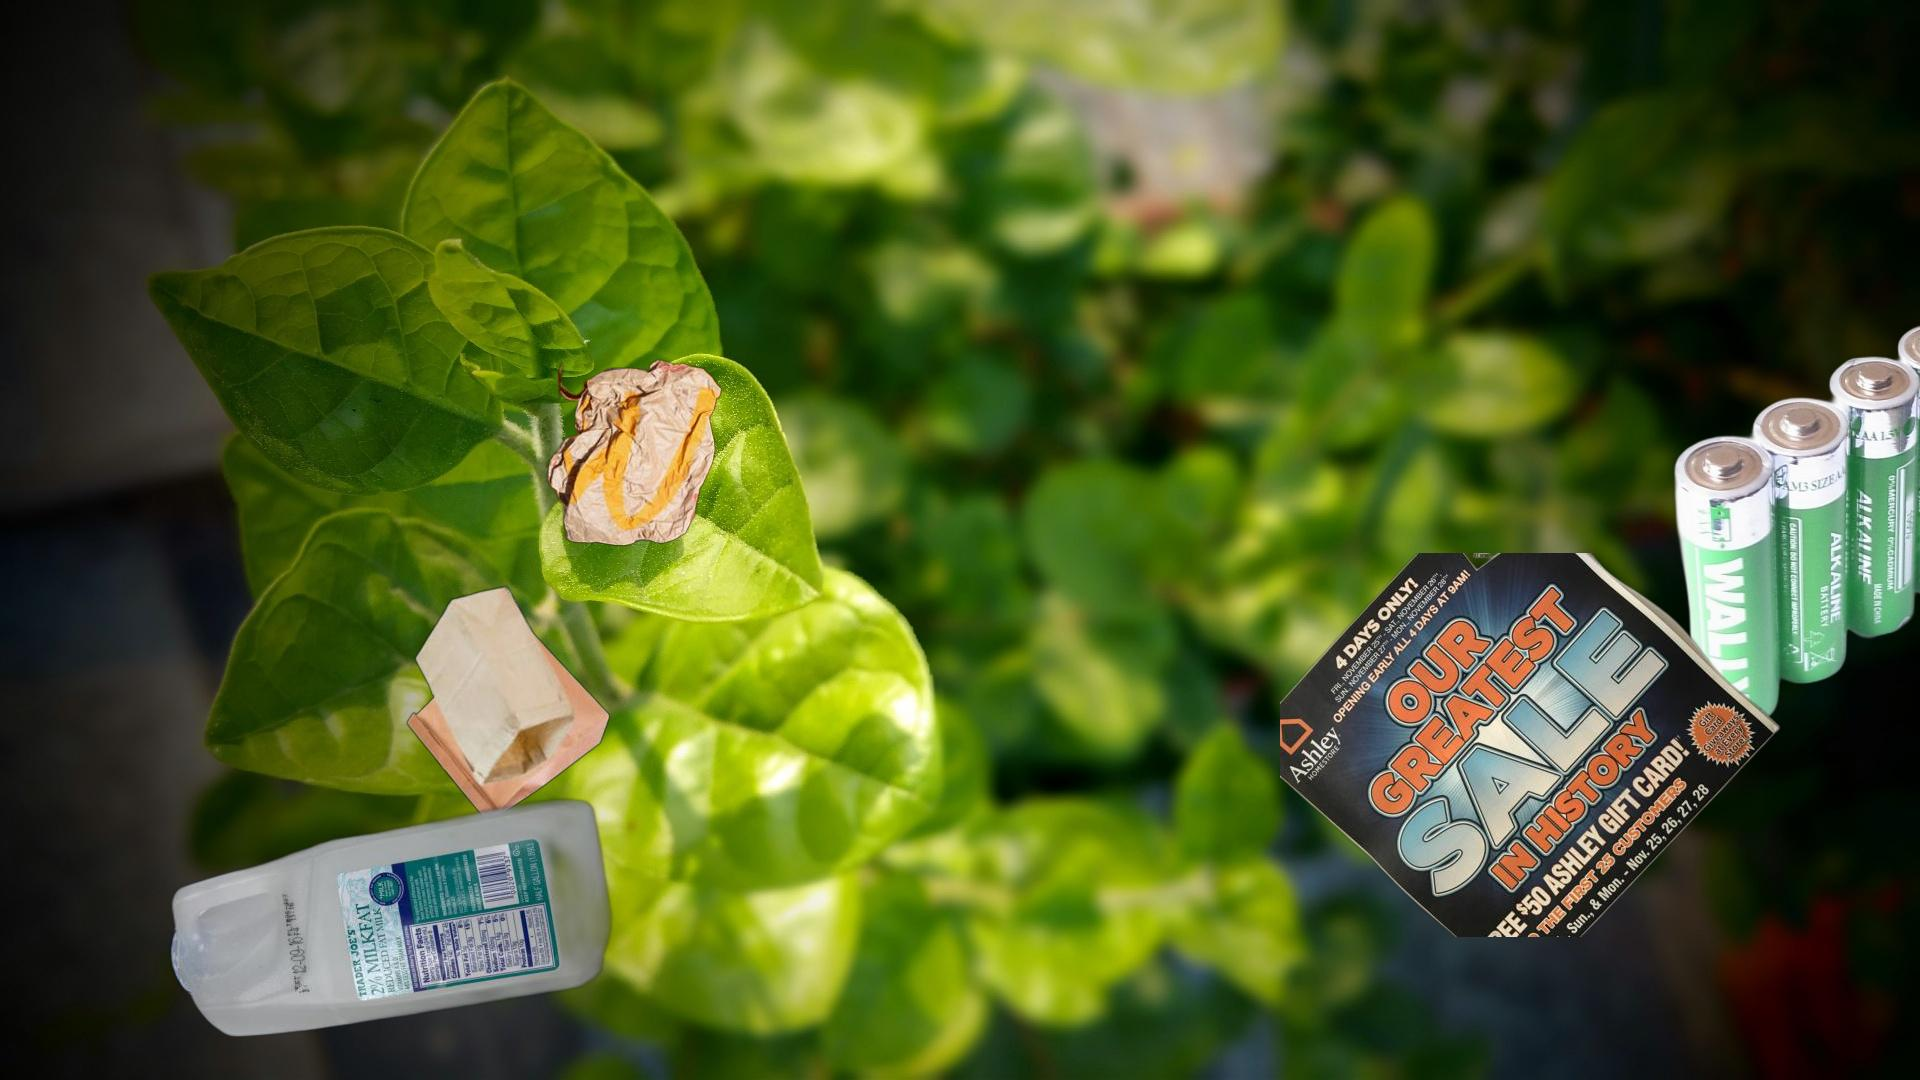battery: (1669, 320, 1920, 732)
paper: (1280, 553, 1784, 938)
paper-bag: (404, 583, 613, 825), (545, 357, 725, 549)
plastic-bottles: (153, 728, 665, 1040)
